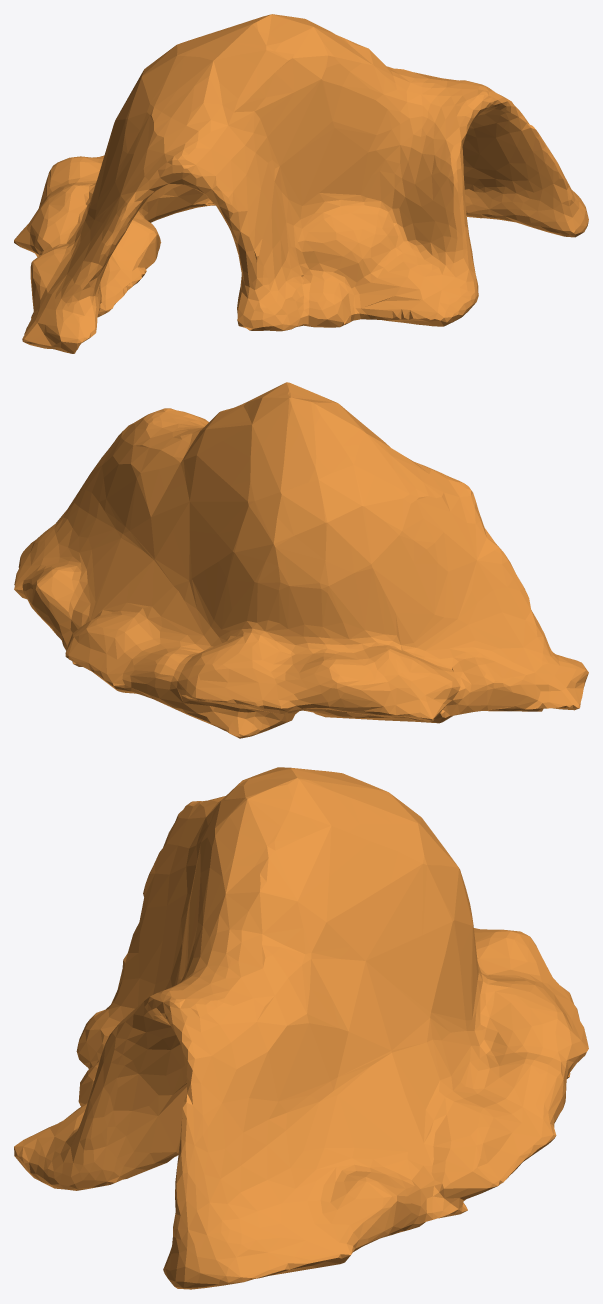
The model's file is SM_Tunnel2.fbx.
The picture shows the model from 3 angles, top to bottom: view 1: azimuth 30°, elevation 25°; view 2: azimuth 150°, elevation 25°; view 3: azimuth 270°, elevation 25°; orthographic projection. The views are drawn at different scales.
Visible parts, largest first — view 1: SM_Tunnel2; view 2: SM_Tunnel2; view 3: SM_Tunnel2.
Part boxes in pixels (x1=…): SM_Tunnel2: x1=14, y1=14, x2=588, y2=353; SM_Tunnel2: x1=14, y1=382, x2=588, y2=738; SM_Tunnel2: x1=14, y1=767, x2=588, y2=1289.
Bounding box in the file's own units: 564 × 260 × 381.
